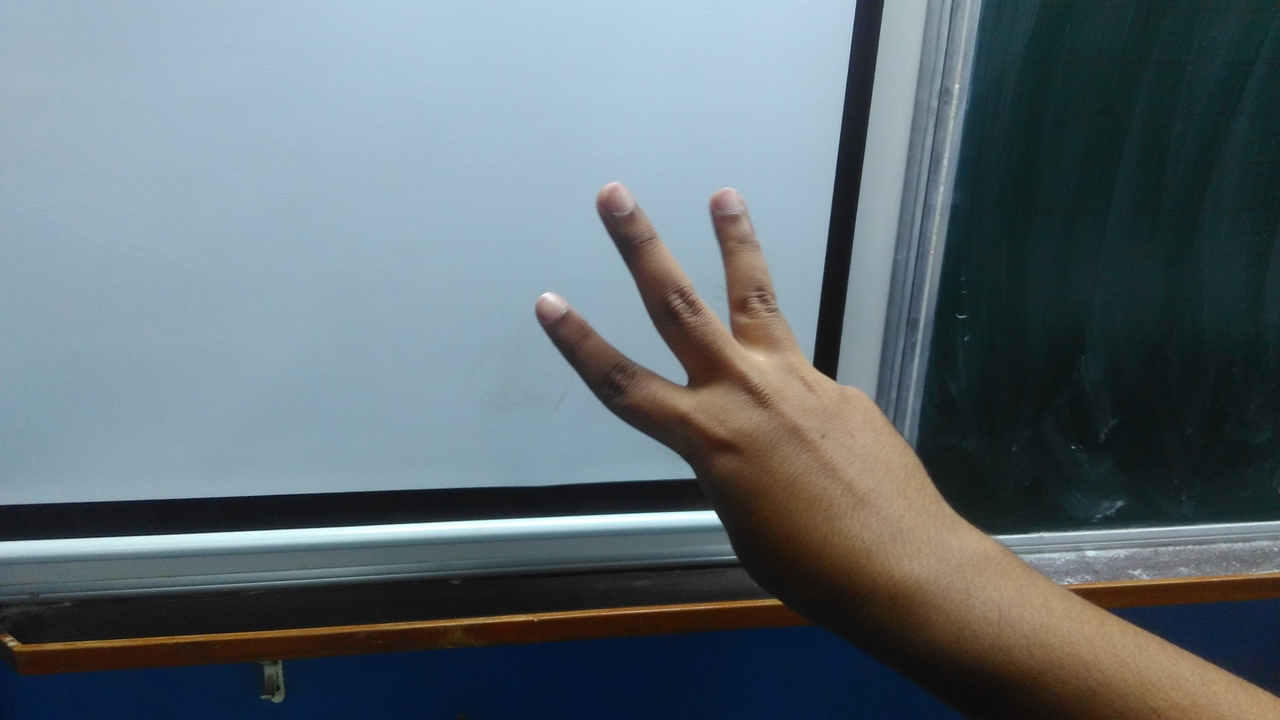fingertip: (586, 170, 648, 224), (702, 176, 762, 228), (524, 278, 578, 330)
